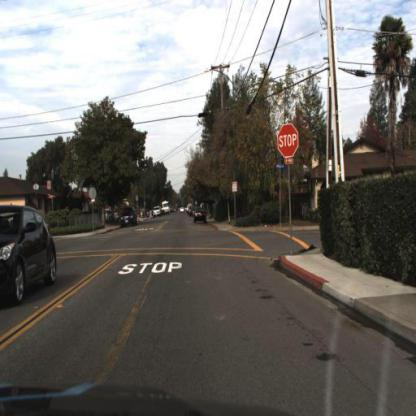car: (1, 204, 61, 311), (117, 197, 143, 228), (116, 203, 141, 232), (190, 204, 208, 229), (192, 208, 207, 225), (152, 205, 164, 221)
